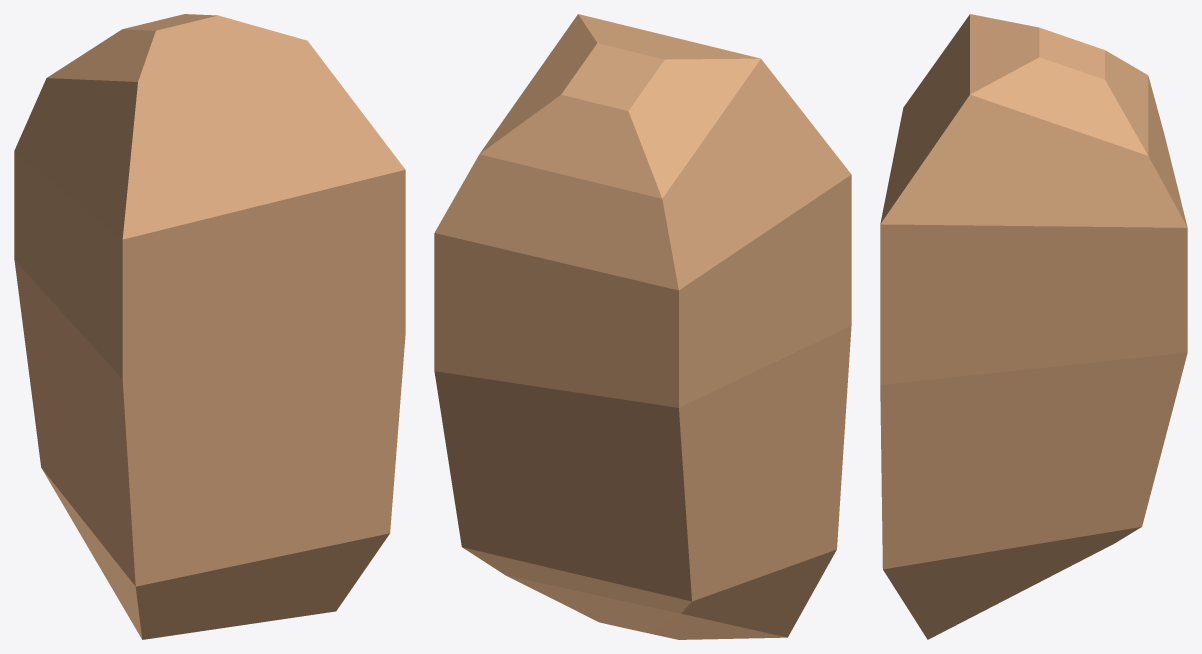
Rendered from potato.gltf.
3 views of the same model, side by side, from view 1: azimuth 30°, elevation 25°; view 2: azimuth 150°, elevation 25°; view 3: azimuth 270°, elevation 25° (orthographic). The views are drawn at different scales.
Visible parts, largest first — view 1: Cube; view 2: Cube; view 3: Cube.
Boxes of the visible parts, x1,y1,x2,y2 form: Cube: (14, 14, 405, 639); Cube: (434, 14, 851, 639); Cube: (880, 14, 1187, 639).
Size of the model in its own units: 0.6891 by 1.38 by 0.6949.
1 material, 1 textured.
